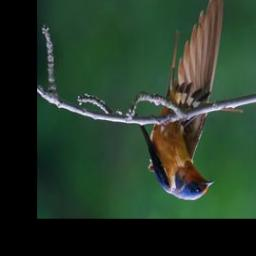Swallow: (133, 0, 226, 204)
